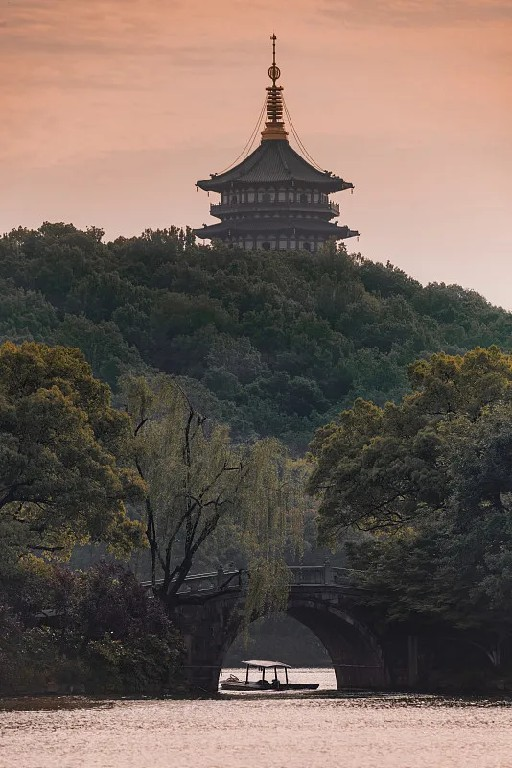Leifeng: (192, 35, 360, 257)
